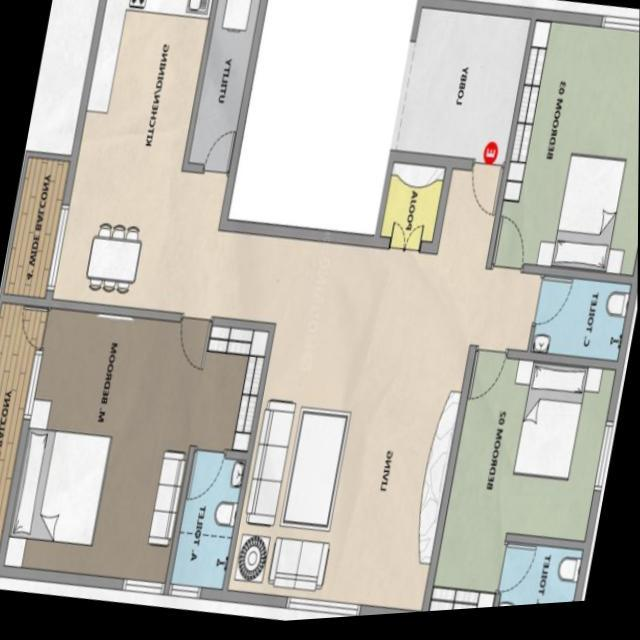Balcony-Sitout: (0, 301, 46, 563), (2, 154, 72, 302)
Bedroom: (489, 24, 640, 288)
Bedroom with Toilet: (0, 305, 272, 599), (426, 355, 620, 617)
Dining: (76, 216, 148, 303)
Enterance-Foyer: (432, 167, 506, 272)
Kitchen: (75, 0, 212, 173)
Living: (226, 241, 488, 619)
Pooja: (376, 164, 448, 257)
Toilet: (169, 451, 247, 594), (530, 281, 631, 370), (495, 549, 582, 614)
Utility: (184, 0, 260, 176)
